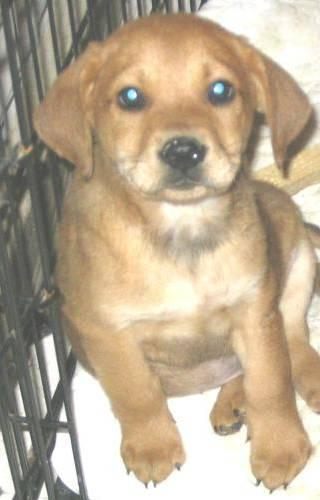dog: (34, 13, 319, 488)
